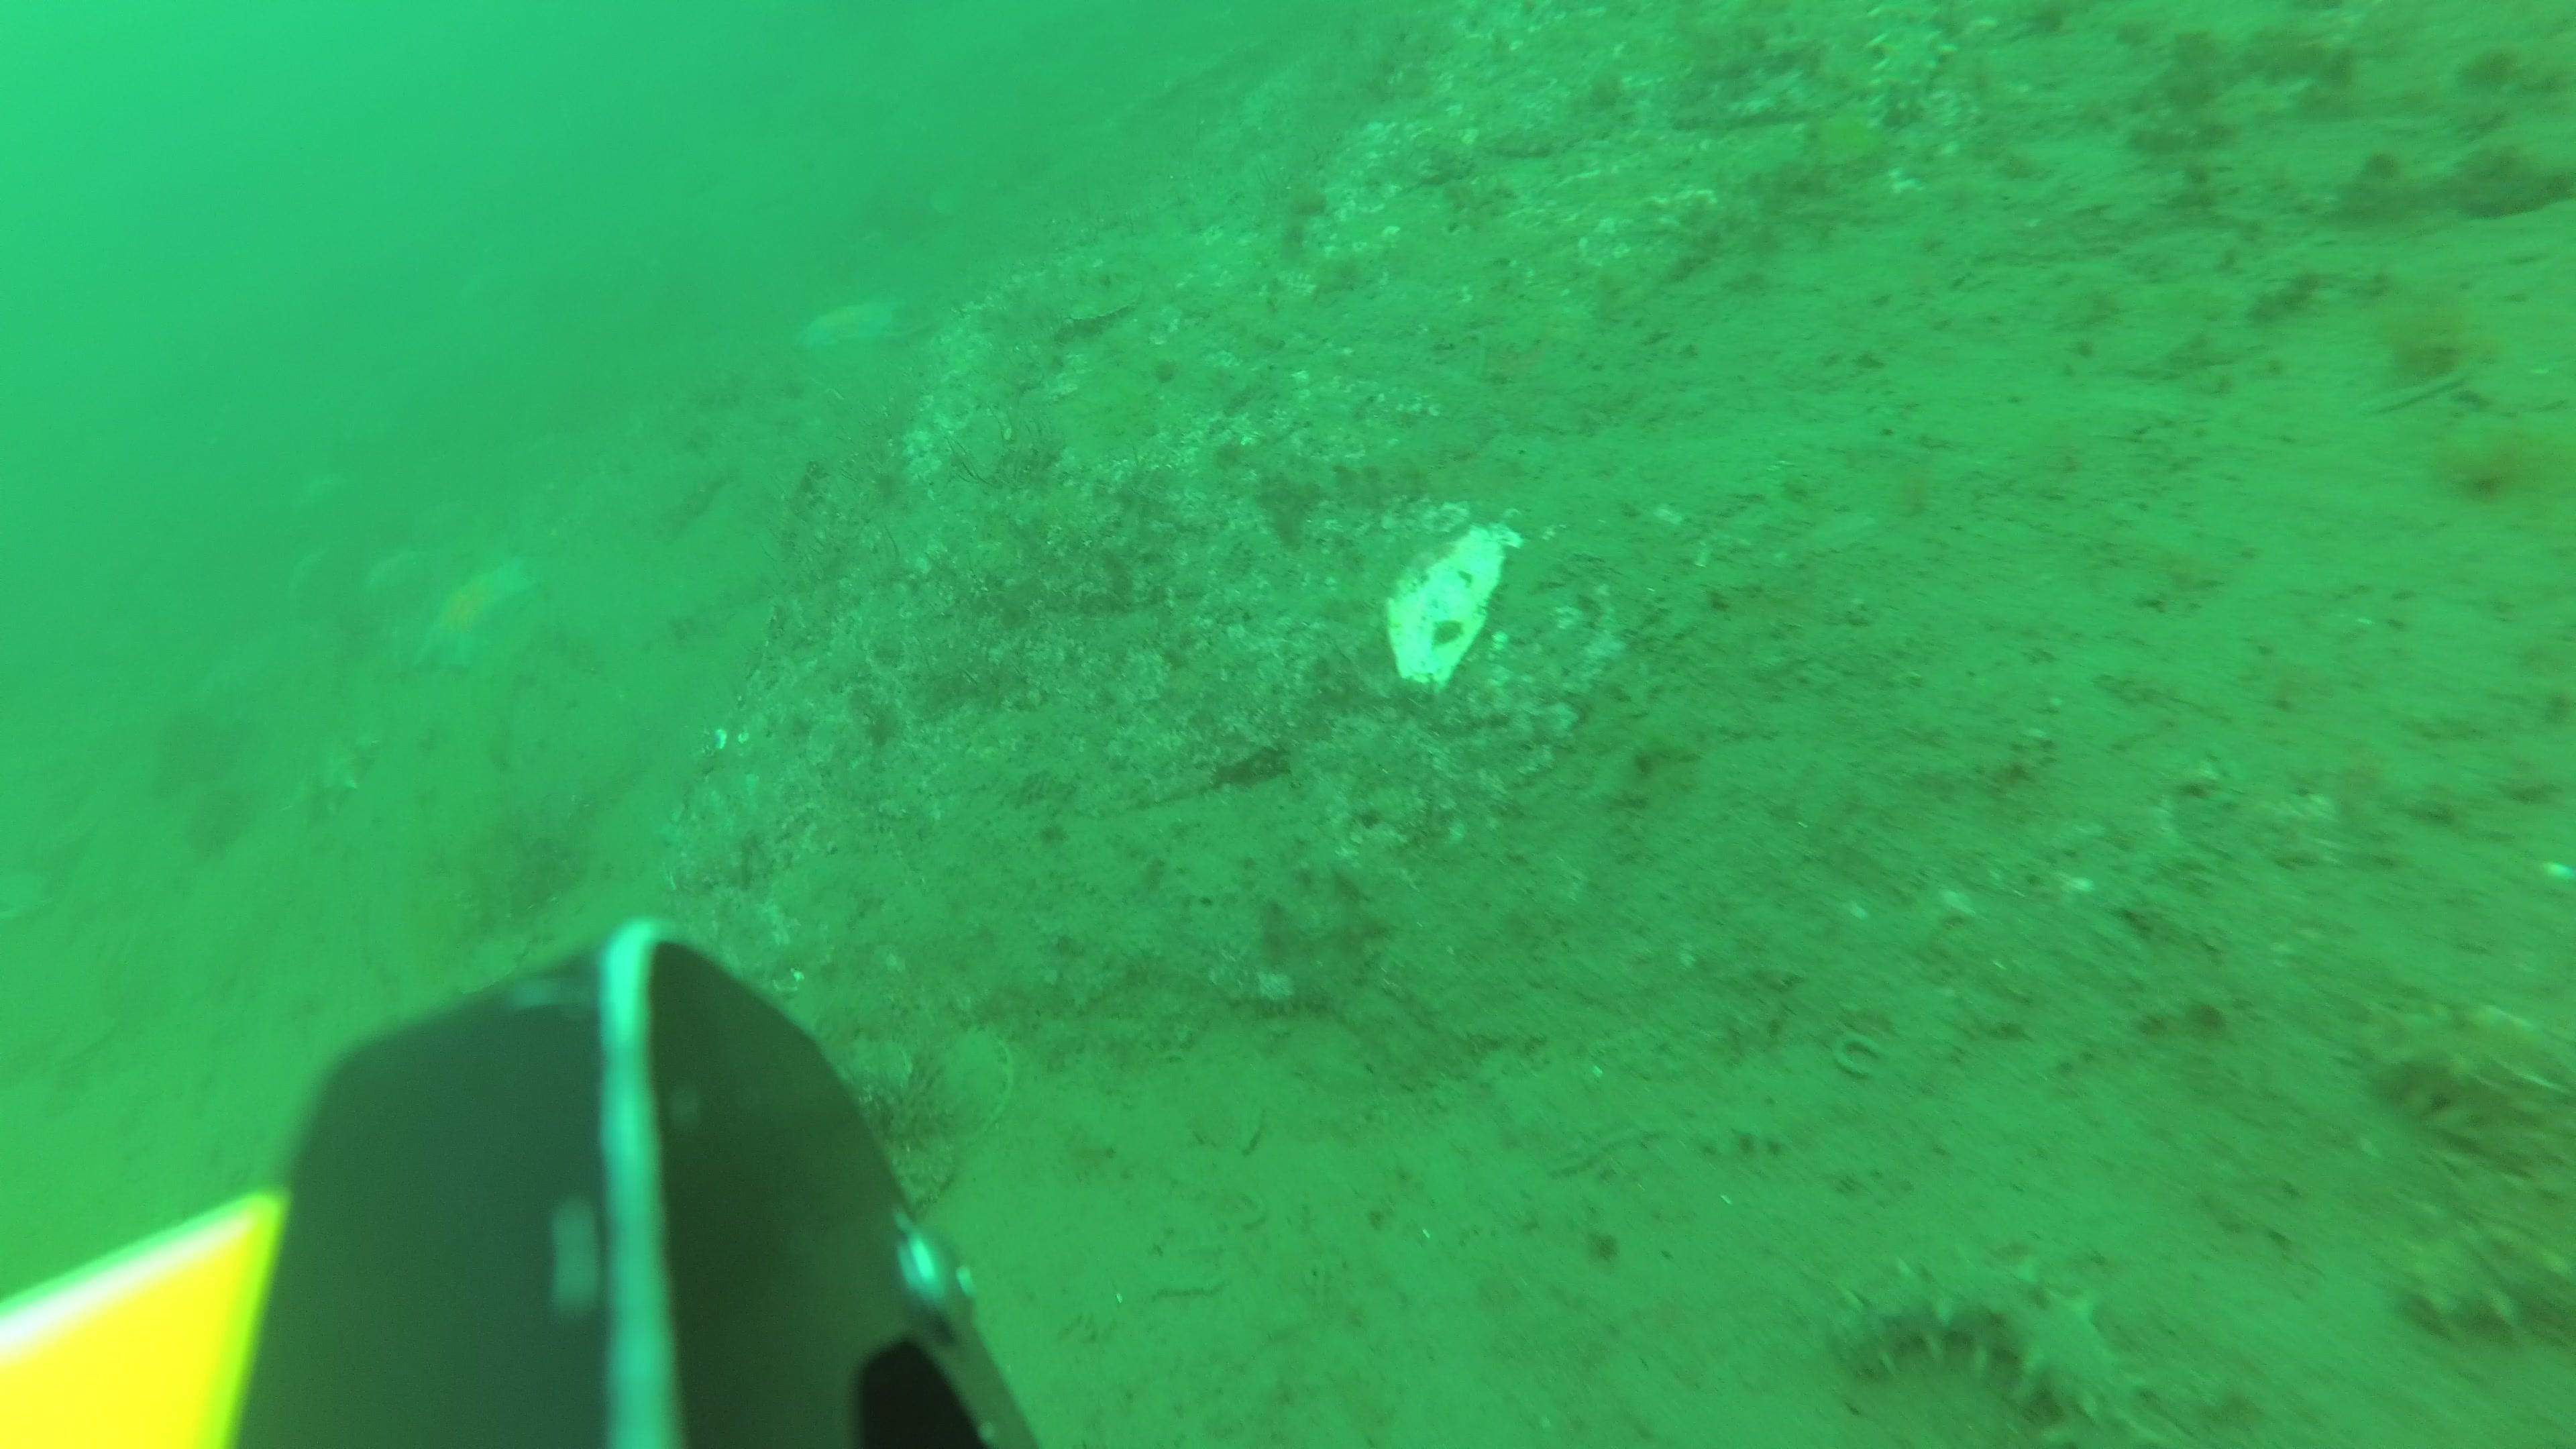holothurian: (2381, 998, 2576, 1352), (1835, 1249, 2130, 1449), (313, 725, 387, 833)
starfish: (418, 550, 540, 678), (798, 303, 904, 359)
